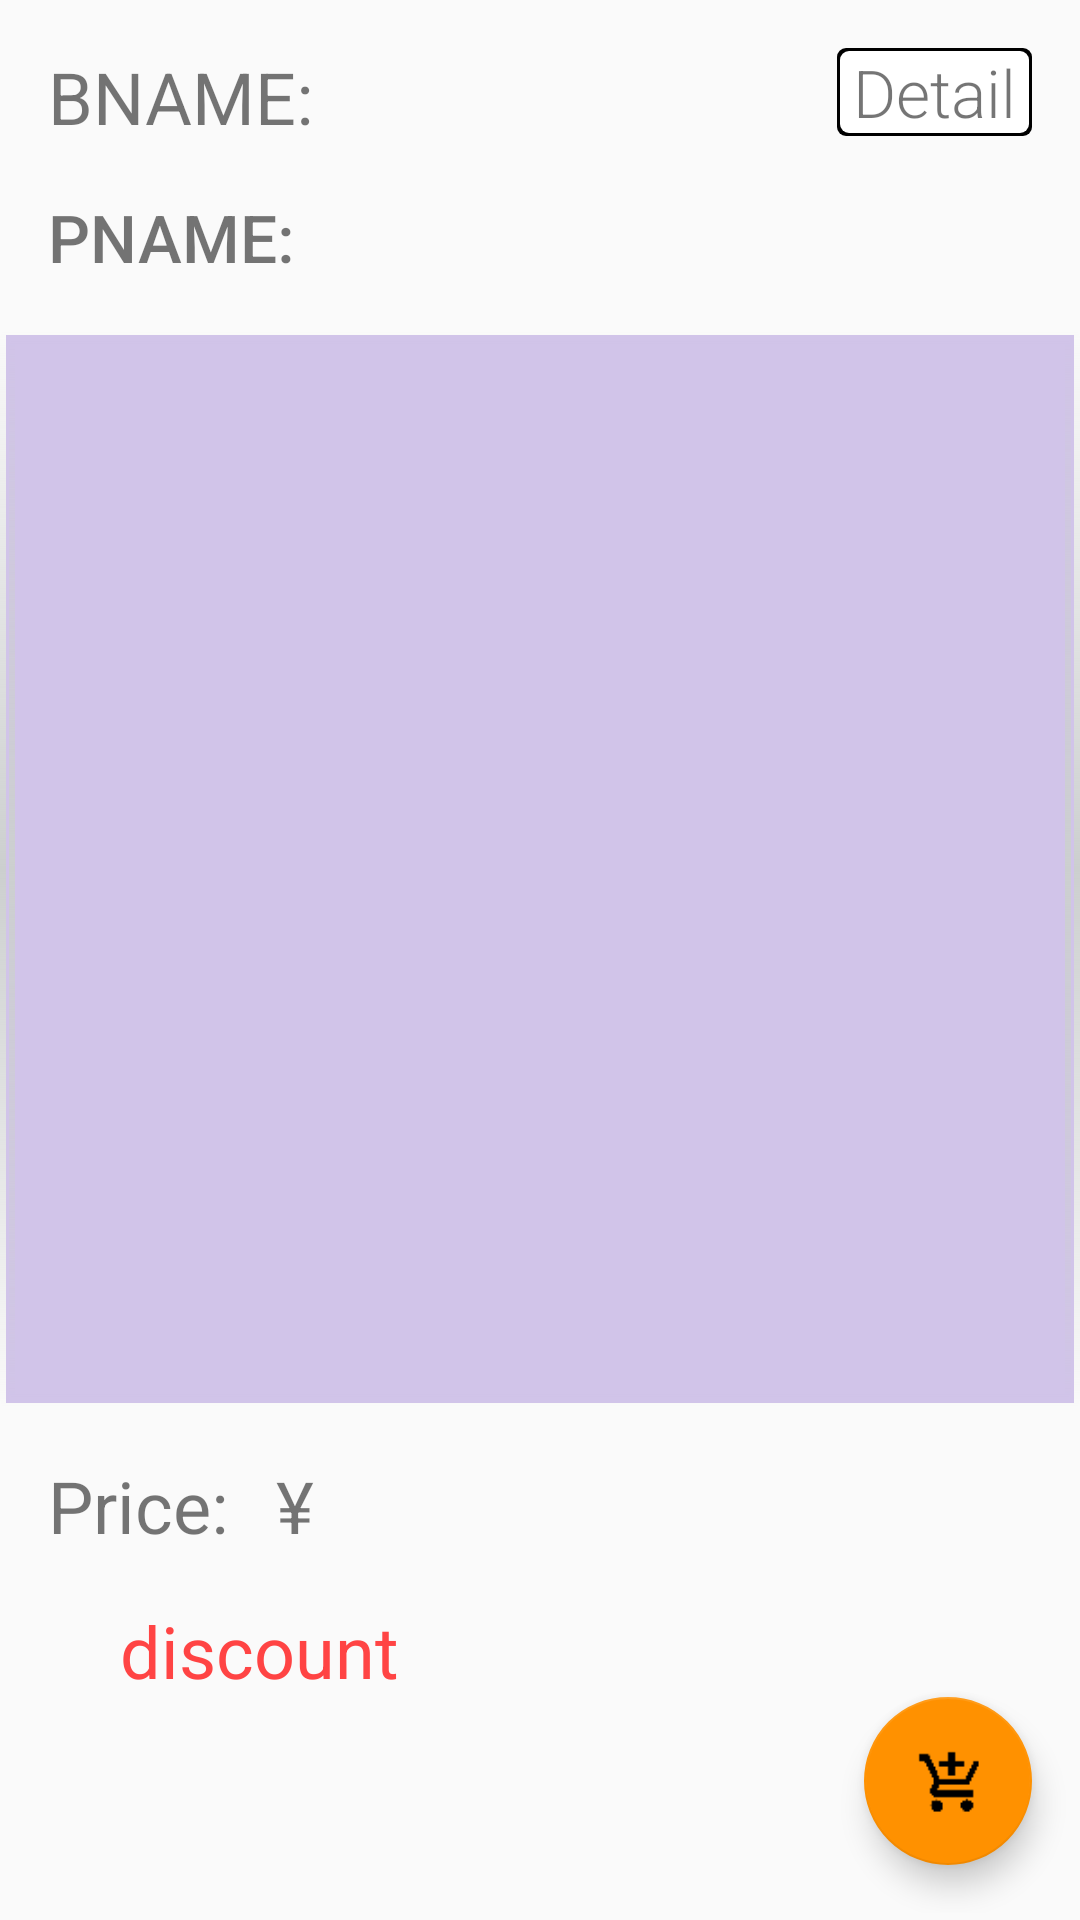

Icon bounding boxes for this 1080w x 1920h phone screenshot, format (x1, y1, x2, y2):
cart: (864, 1697, 1032, 1865)
